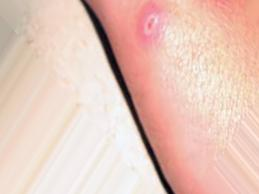Spider: (134, 6, 166, 46)
